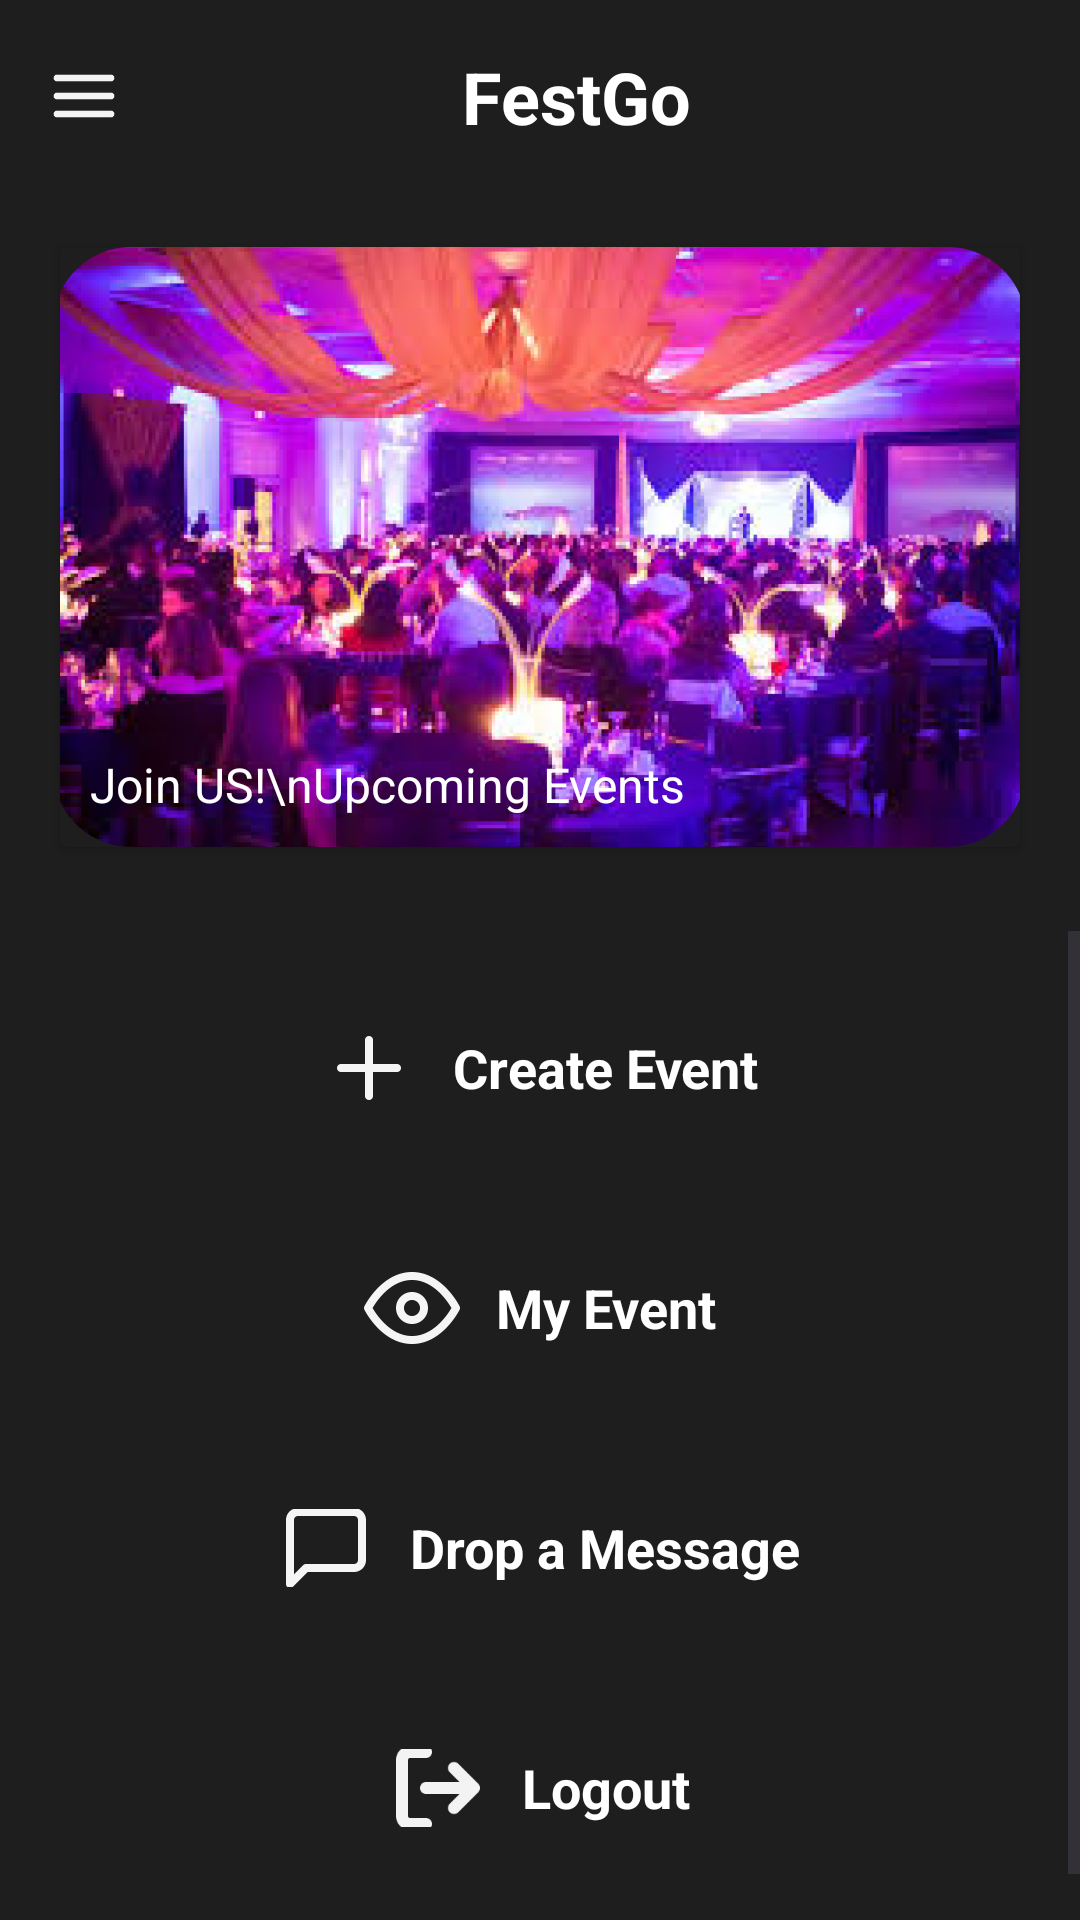

Named icons in this screenshot (1080w x 1920h) and their centers, [x,y]:
eye: [412,1308]
menu: [84,96]
plus: [369,1068]
